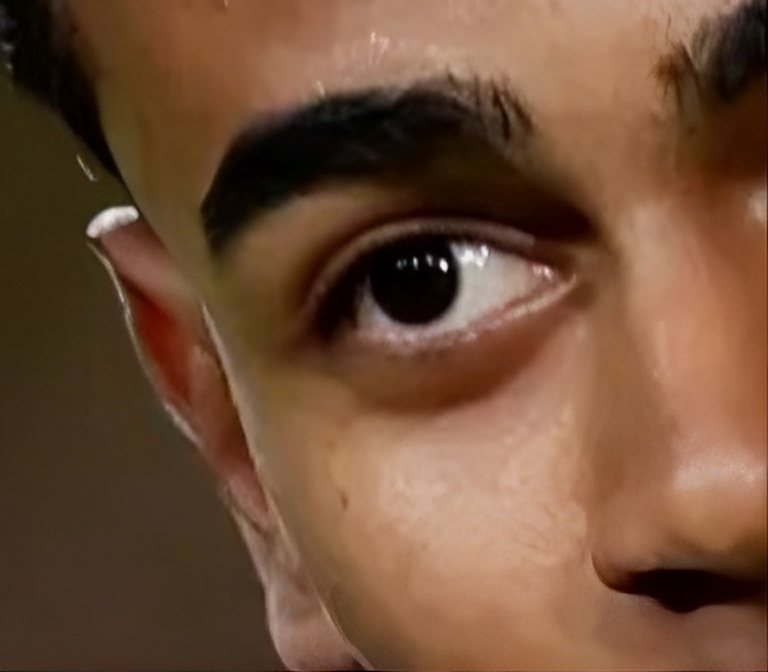iris: (369, 245, 462, 328)
pupil: (386, 248, 448, 306)
sclera: (357, 241, 536, 341)
